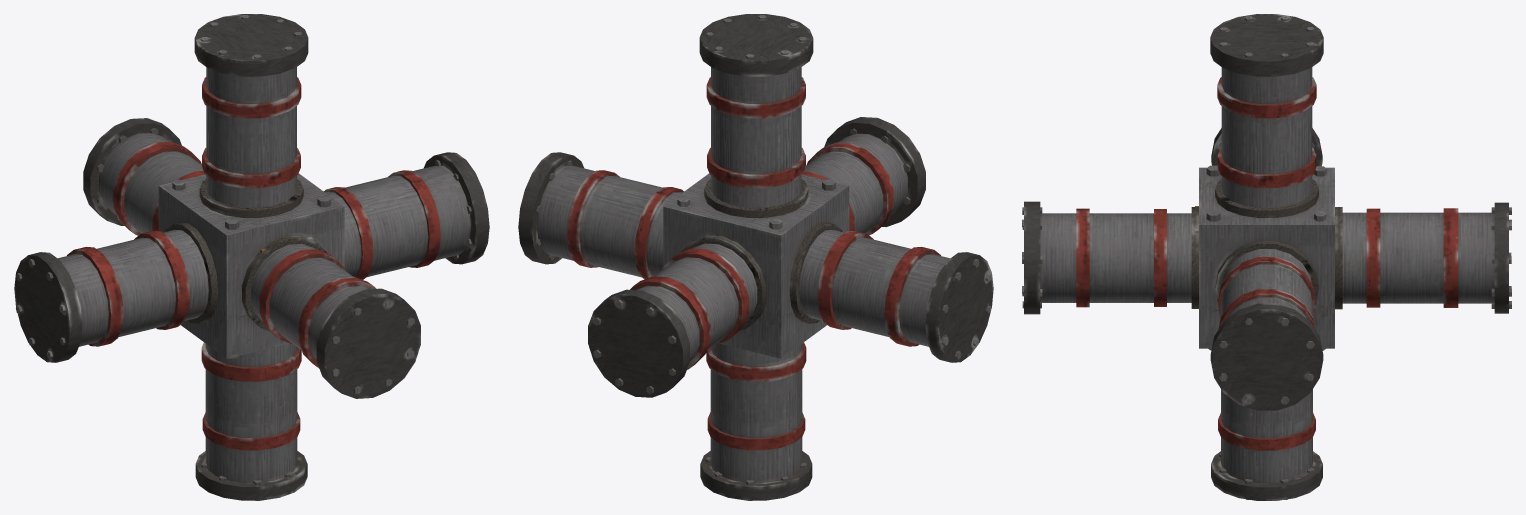
Rendered from fePipeHP_HD.fbx.
3 views of the same model, side by side, from view 1: azimuth 30°, elevation 25°; view 2: azimuth 150°, elevation 25°; view 3: azimuth 270°, elevation 25° (orthographic).
Visible parts, largest first — view 1: FeArm_PY, FeArm_PX, FeArm_PZ, fePipe_Core, FeArm_NY, FeArm_NX, FeArm_NZ; view 2: FeArm_PY, FeArm_PX, FeArm_NZ, fePipe_Core, FeArm_NY, FeArm_NX, FeArm_PZ; view 3: FeArm_PY, FeArm_NZ, FeArm_PZ, FeArm_NX, fePipe_Core, FeArm_NY.
Boxes of the visible parts, x1=… form: FeArm_PY: x1=194, y1=14, x2=308, y2=207; FeArm_PX: x1=14, y1=229, x2=208, y2=362; FeArm_PZ: x1=251, y1=244, x2=420, y2=398; fePipe_Core: x1=158, y1=173, x2=344, y2=358; FeArm_NY: x1=195, y1=342, x2=307, y2=500; FeArm_NX: x1=324, y1=152, x2=489, y2=279; FeArm_NZ: x1=83, y1=118, x2=204, y2=235; FeArm_PY: x1=699, y1=14, x2=813, y2=207; FeArm_PX: x1=799, y1=229, x2=993, y2=362; FeArm_NZ: x1=588, y1=243, x2=757, y2=397; fePipe_Core: x1=663, y1=173, x2=849, y2=358; FeArm_NY: x1=700, y1=342, x2=812, y2=500; FeArm_NX: x1=518, y1=152, x2=683, y2=279; FeArm_PZ: x1=803, y1=117, x2=925, y2=235; FeArm_PY: x1=1210, y1=14, x2=1323, y2=207; FeArm_NZ: x1=1342, y1=202, x2=1511, y2=313; FeArm_PZ: x1=1022, y1=201, x2=1191, y2=314; FeArm_NX: x1=1210, y1=249, x2=1323, y2=410; fePipe_Core: x1=1191, y1=165, x2=1342, y2=350; FeArm_NY: x1=1211, y1=389, x2=1322, y2=500.
Size of the model in its own units: 1.01 by 1.01 by 1.01.
Materials: 1 (1 with a texture image).
